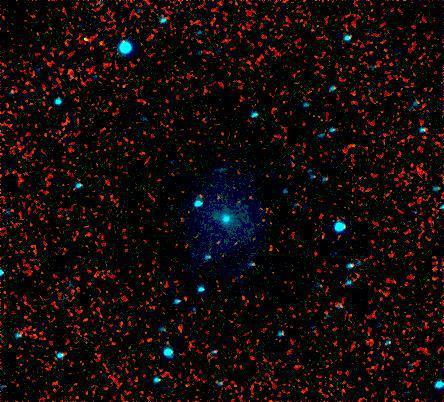star: (108, 71, 138, 101)
